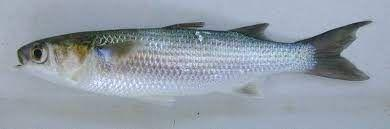Mullet: (14, 21, 366, 110)
